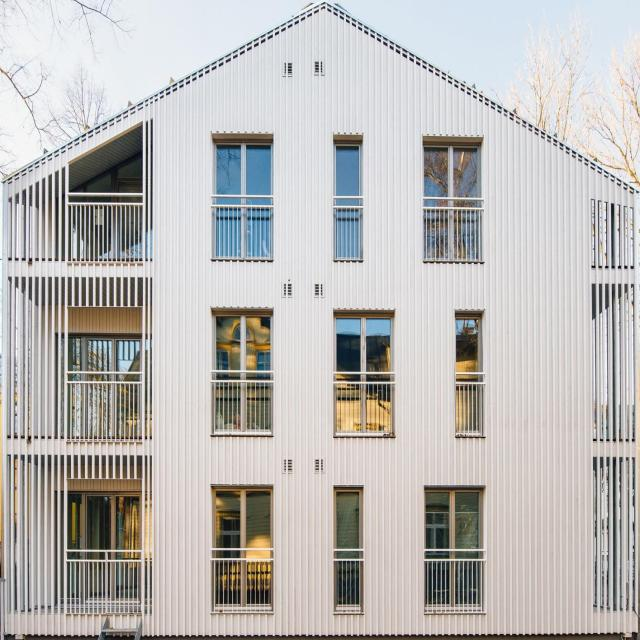railing: (67, 370, 145, 439), (68, 548, 141, 613), (334, 367, 395, 435), (212, 365, 273, 432), (210, 546, 275, 606), (425, 196, 481, 264), (214, 194, 271, 259), (426, 547, 483, 610), (333, 193, 361, 260), (335, 545, 363, 612), (456, 371, 484, 435)
window: (70, 494, 142, 547), (209, 489, 274, 547), (333, 316, 392, 369), (426, 491, 482, 546), (212, 315, 271, 367), (215, 141, 271, 195), (423, 147, 477, 198), (71, 153, 140, 191), (68, 336, 139, 370), (335, 490, 362, 547), (455, 316, 482, 371), (336, 145, 359, 193)
